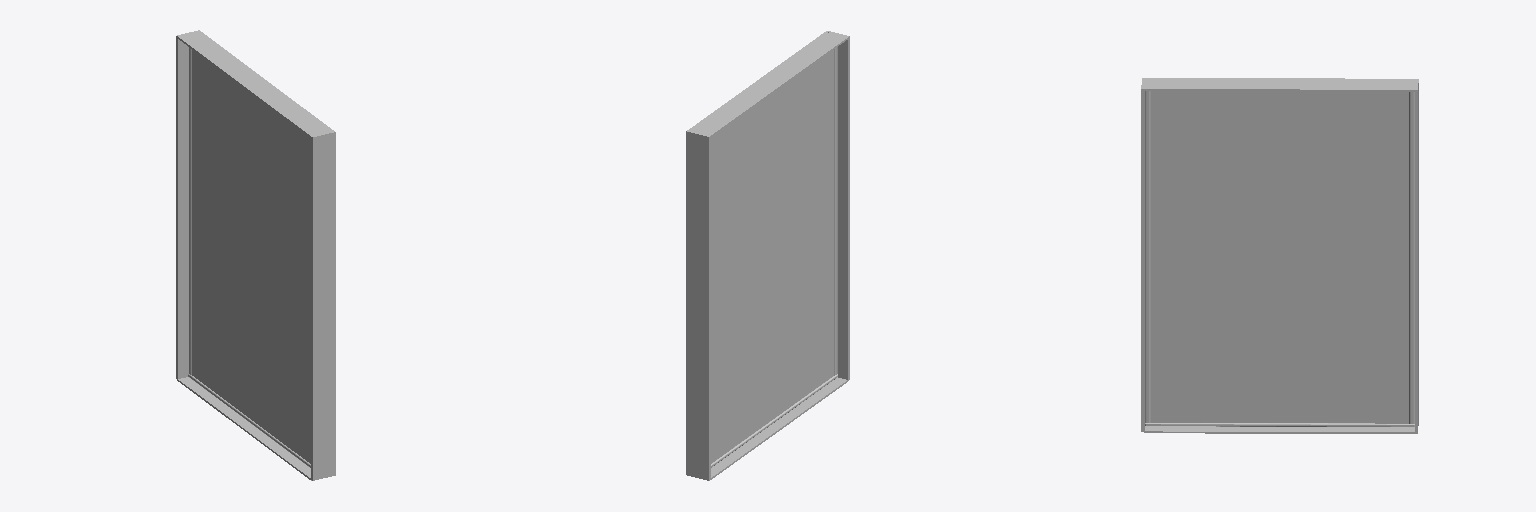
The model's file is Ventana6.obj.
3 views of the same model, side by side, from view 1: azimuth 30°, elevation 25°; view 2: azimuth 150°, elevation 25°; view 3: azimuth 270°, elevation 25° (orthographic).
Parts seen in each view (by area): view 1: polySurface107; view 2: polySurface107; view 3: polySurface107.
Part boxes in pixels (bbox=[...]): polySurface107: bbox=[176, 30, 335, 480]; polySurface107: bbox=[686, 31, 849, 480]; polySurface107: bbox=[1141, 78, 1418, 433].
Bounding box in the file's own units: 0.1565 × 2.05 × 1.5.